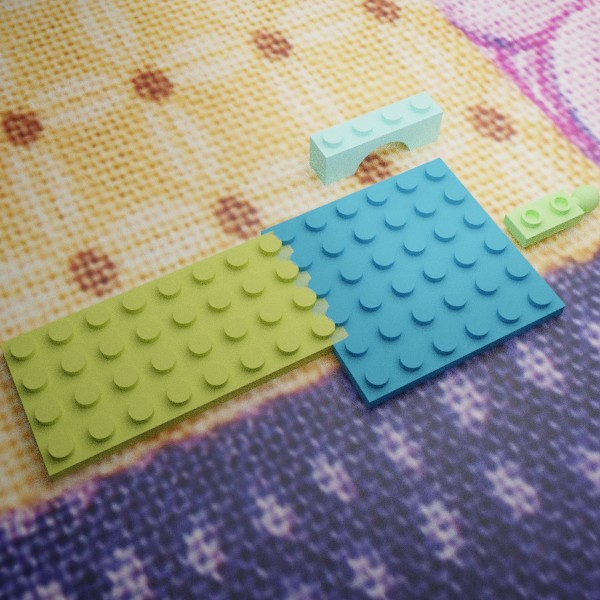lego: (0, 228, 349, 482), (260, 157, 565, 409), (309, 91, 443, 185), (502, 184, 599, 247)
